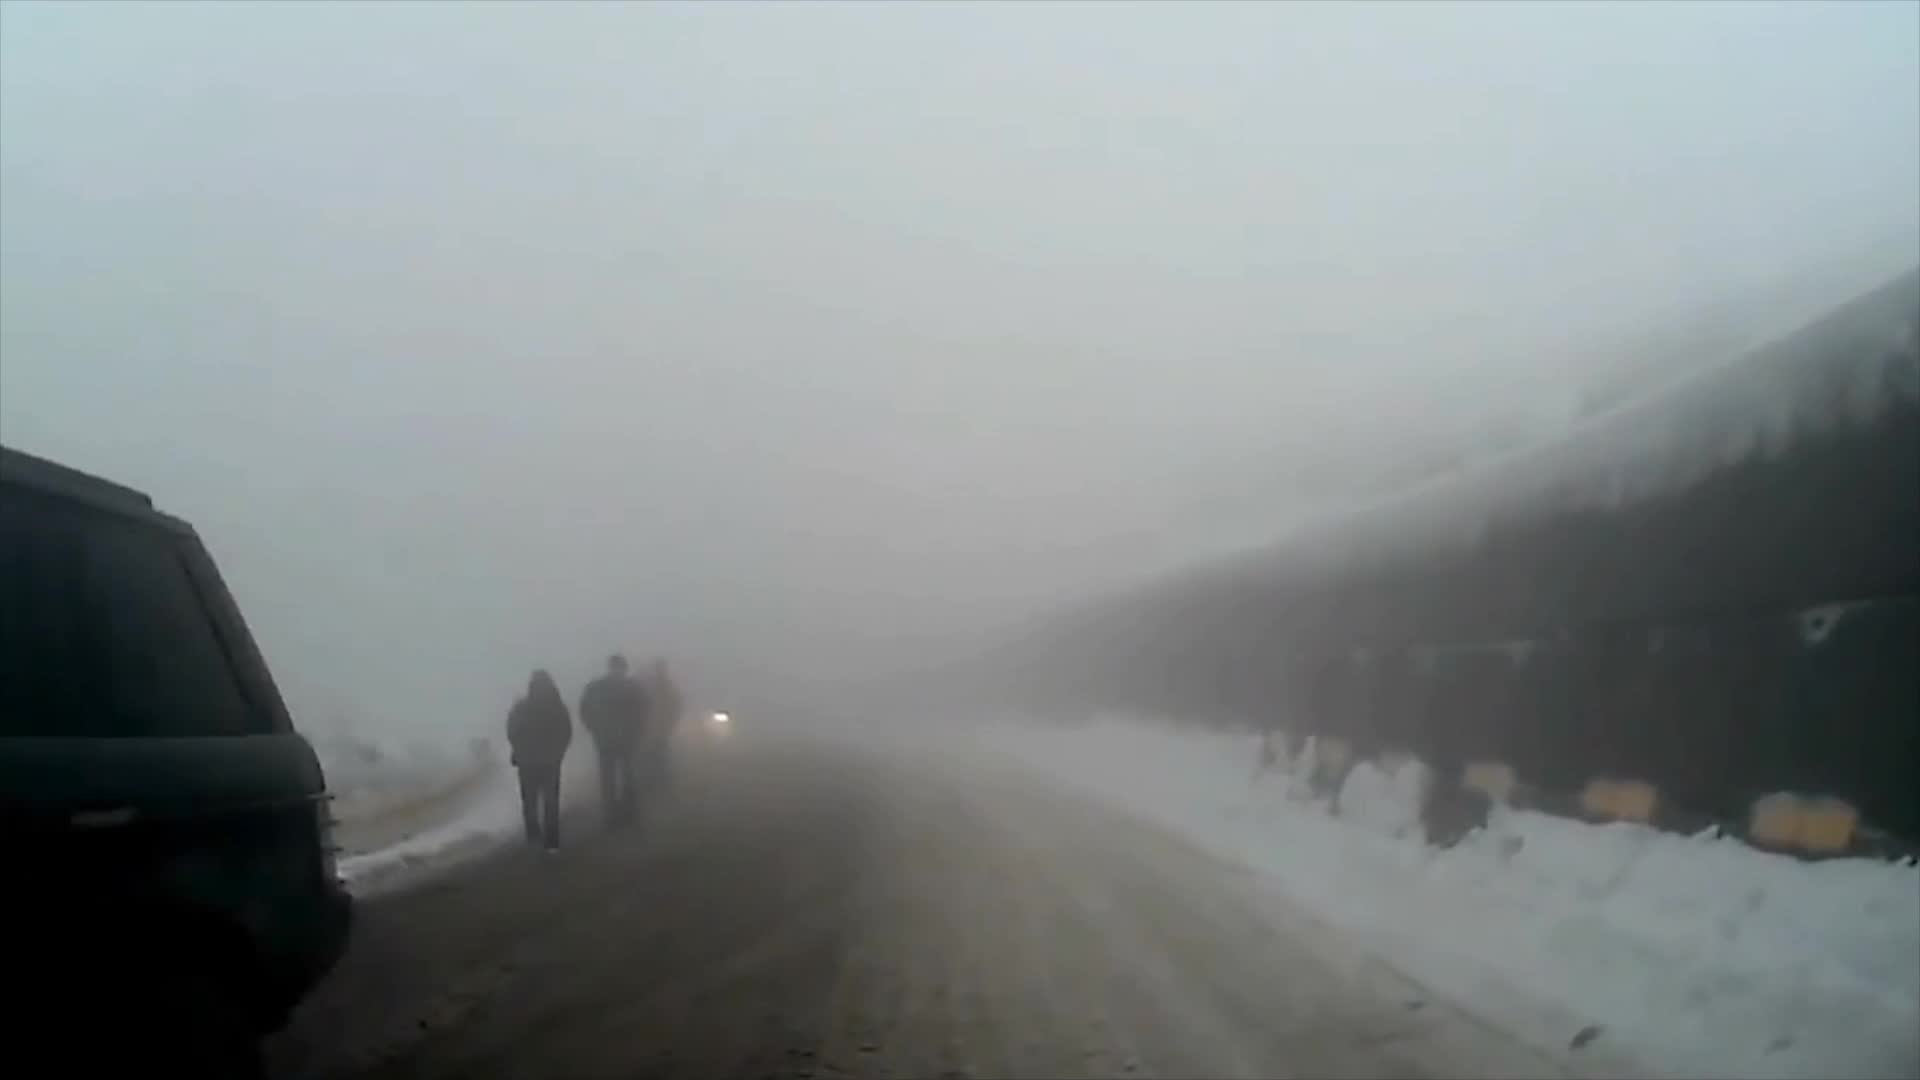pedestrian: (504, 671, 577, 853), (579, 651, 651, 831), (634, 655, 687, 820)
vehicle: (0, 421, 356, 1079)
